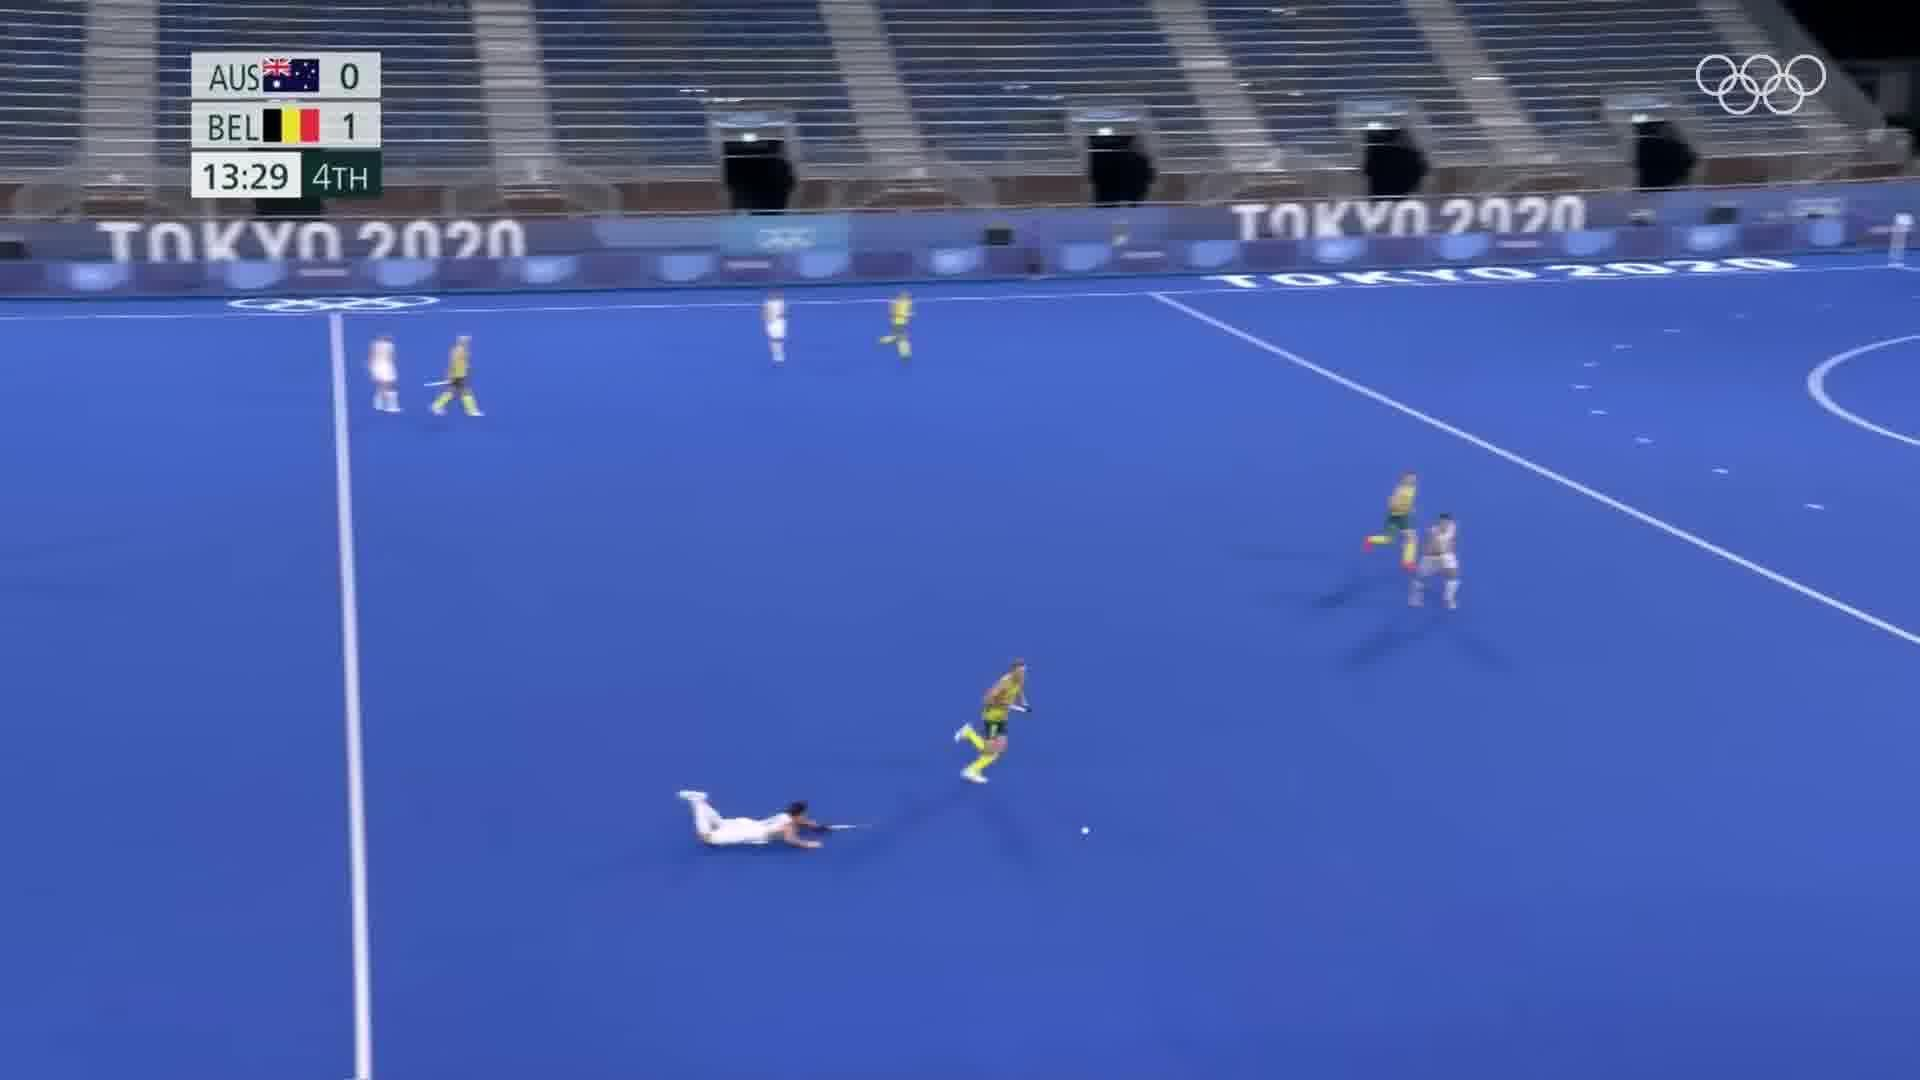ball: (1071, 818, 1106, 847)
